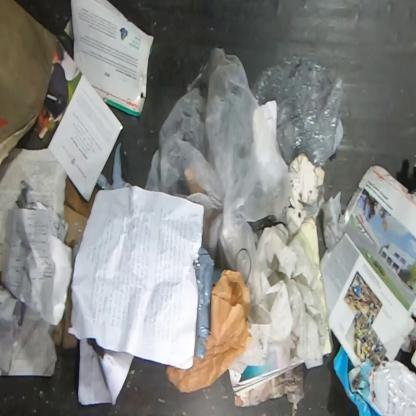cardboard: (319, 164, 416, 372), (63, 174, 101, 248), (51, 285, 79, 351)
soft_plastic: (144, 46, 295, 306), (250, 55, 351, 168), (0, 285, 59, 377), (193, 248, 223, 359), (97, 142, 132, 190), (23, 200, 47, 211)
